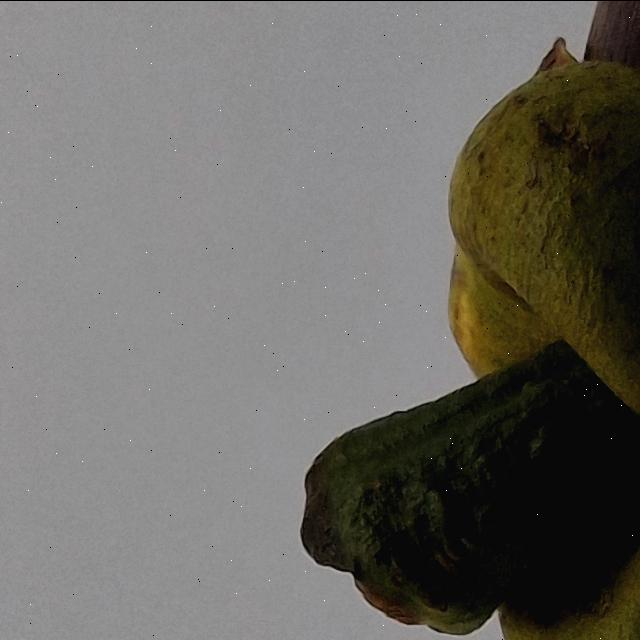mangosteen: (260, 0, 640, 640)
